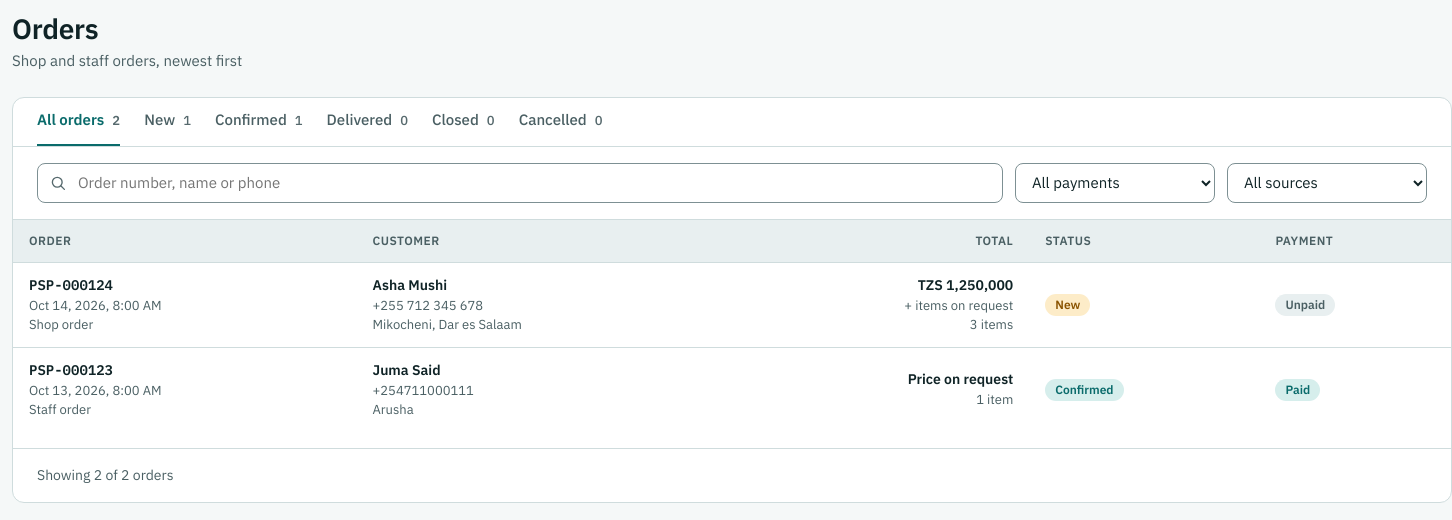
Test: OrdersList › names the empty status tab
The width and height of the screenshot is (1452, 520).
Expected: the table is shown, x1=13 y1=220 x2=1451 y2=432
What coordinates should you click on to do the following:
click the button "Cancelled 0"
I would click on:
 (560, 122)
Its box is x1=519 y1=98 x2=602 y2=146.
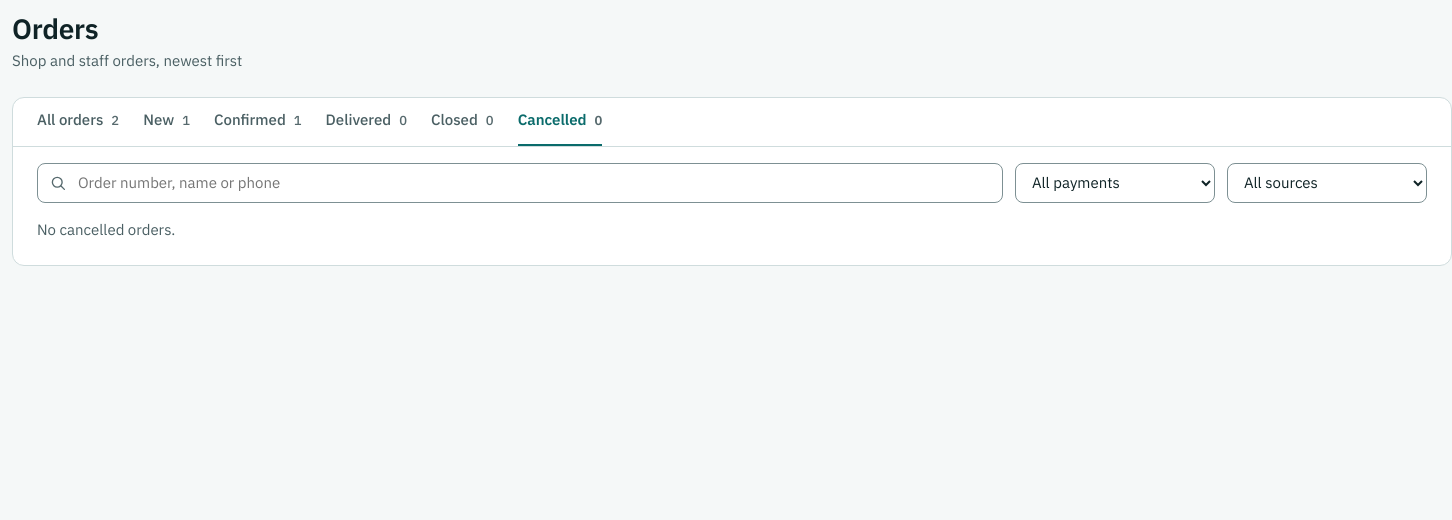
Now the text "No cancelled orders." is shown, box x1=37 y1=218 x2=175 y2=241
